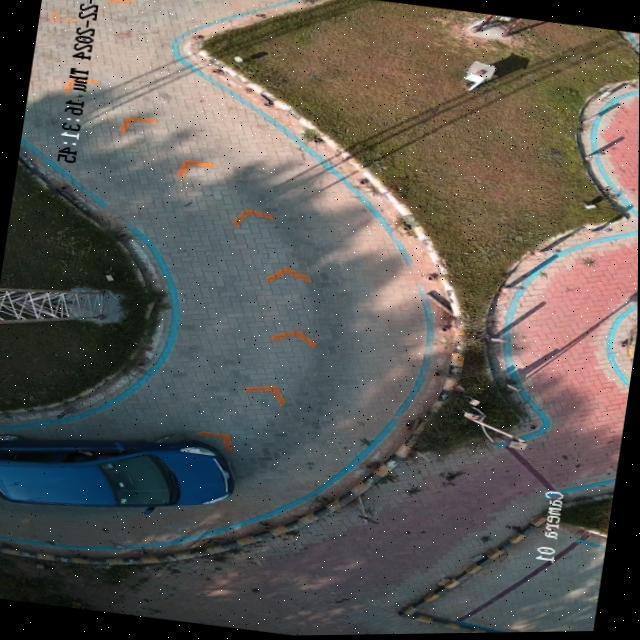car: (0, 433, 235, 513)
